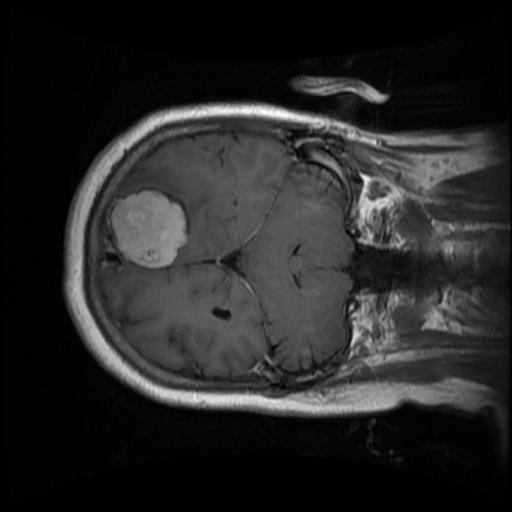meningioma: (108, 187, 188, 269)
